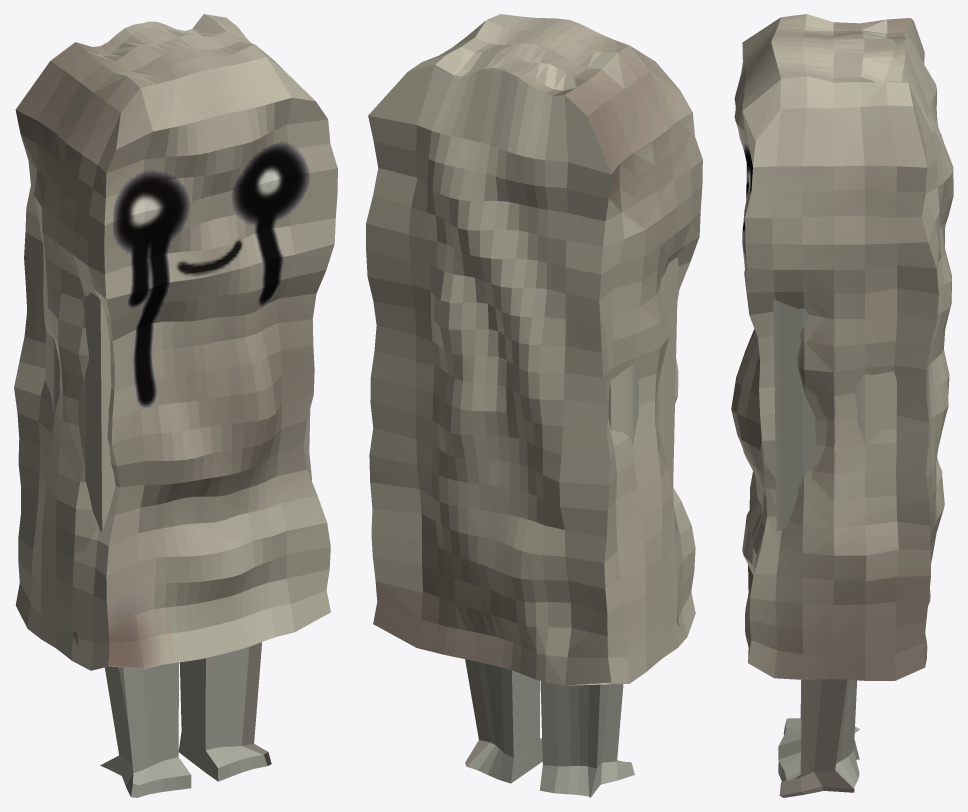
Rendered from ghost.fbx.
3 views of the same model, side by side, from view 1: azimuth 30°, elevation 25°; view 2: azimuth 150°, elevation 25°; view 3: azimuth 270°, elevation 25° (orthographic). The views are drawn at different scales.
Parts seen in each view (by area): view 1: Cube; view 2: Cube; view 3: Cube.
Part boxes in pixels (x1,y1,x2,y2): Cube: (14,14,337,797); Cube: (366,14,702,797); Cube: (731,14,953,797).
Bounding box in the file's own units: 339 × 940 × 261.
1 material, 1 textured.
